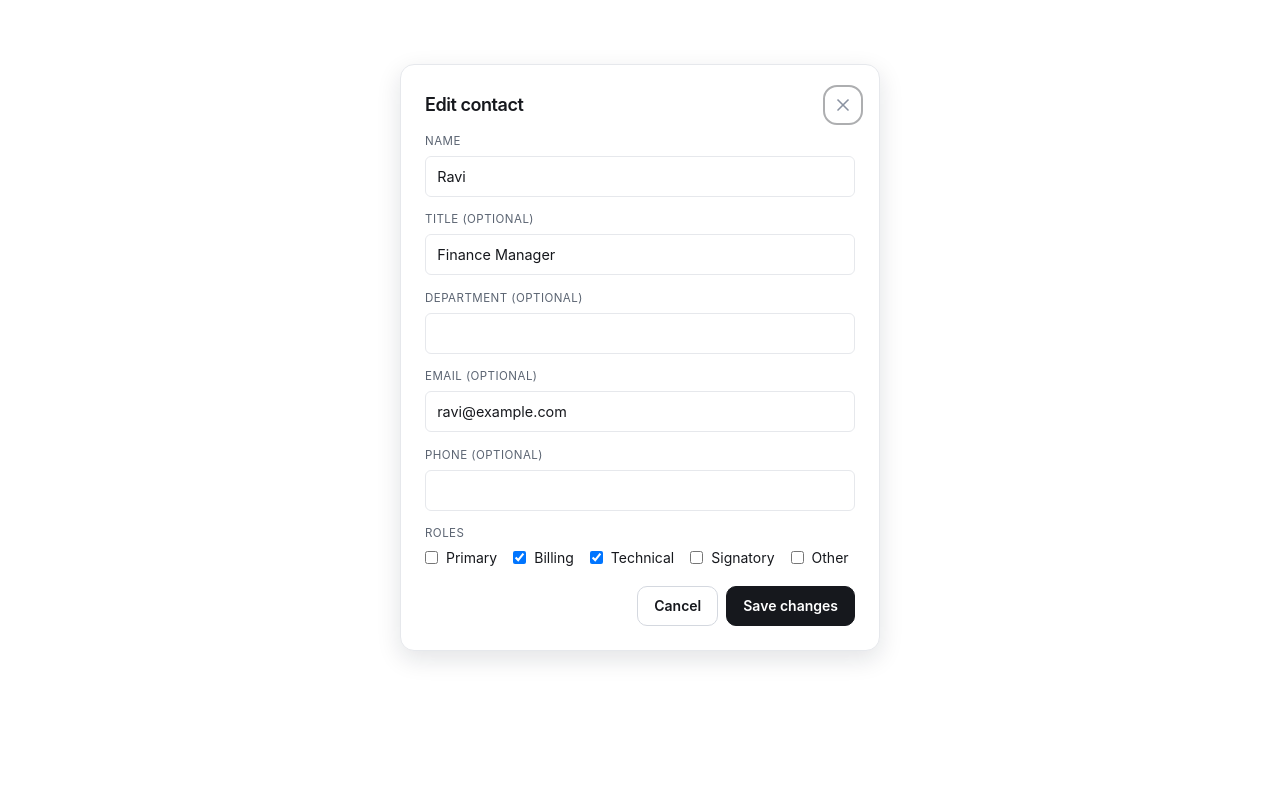
ContactFormModal role selection › warns before a hand-over that will clear the current primary
The width and height of the screenshot is (1280, 800).
Expected: the text "clears the customer's current primary" is not shown
Click the checkbox labelled "Primary": (432, 558) x1=425 y1=552 x2=438 y2=564
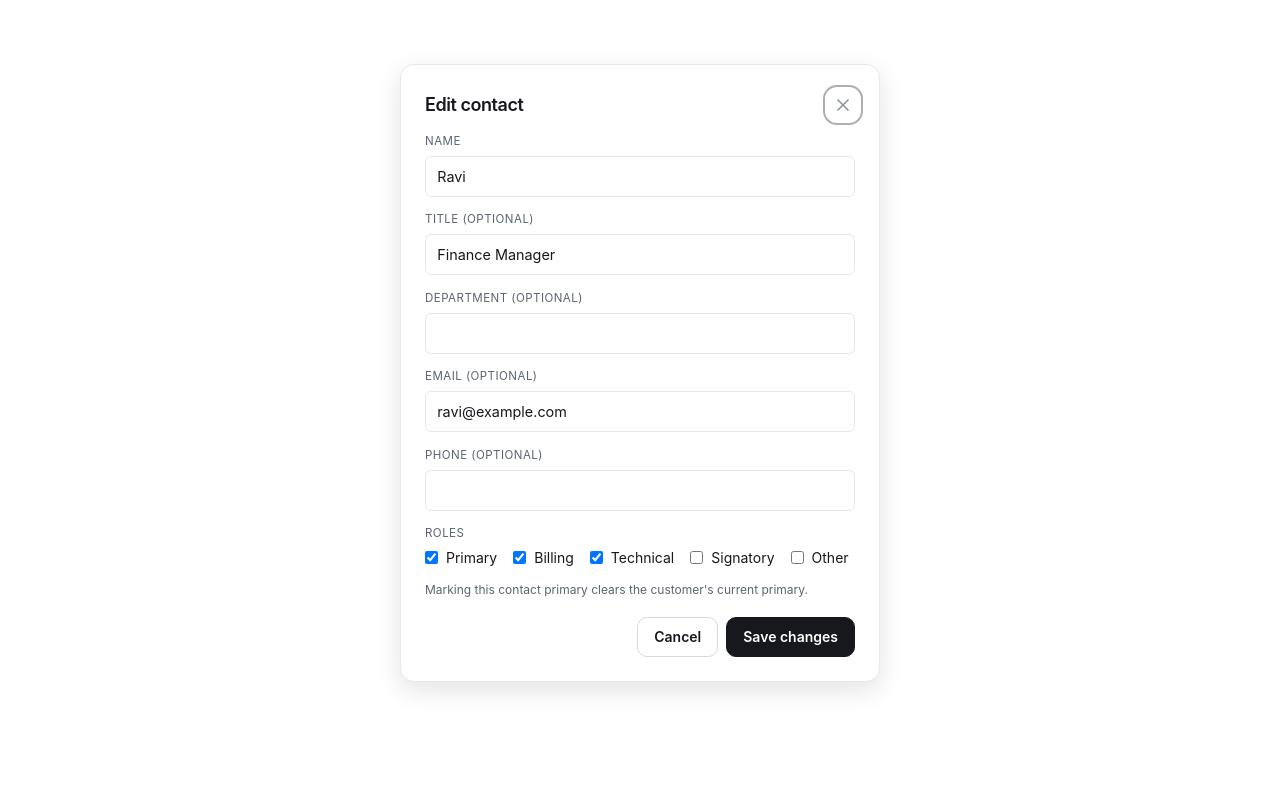
Expected: the text "clears the customer's current primary" is shown, x1=425 y1=582 x2=808 y2=597
